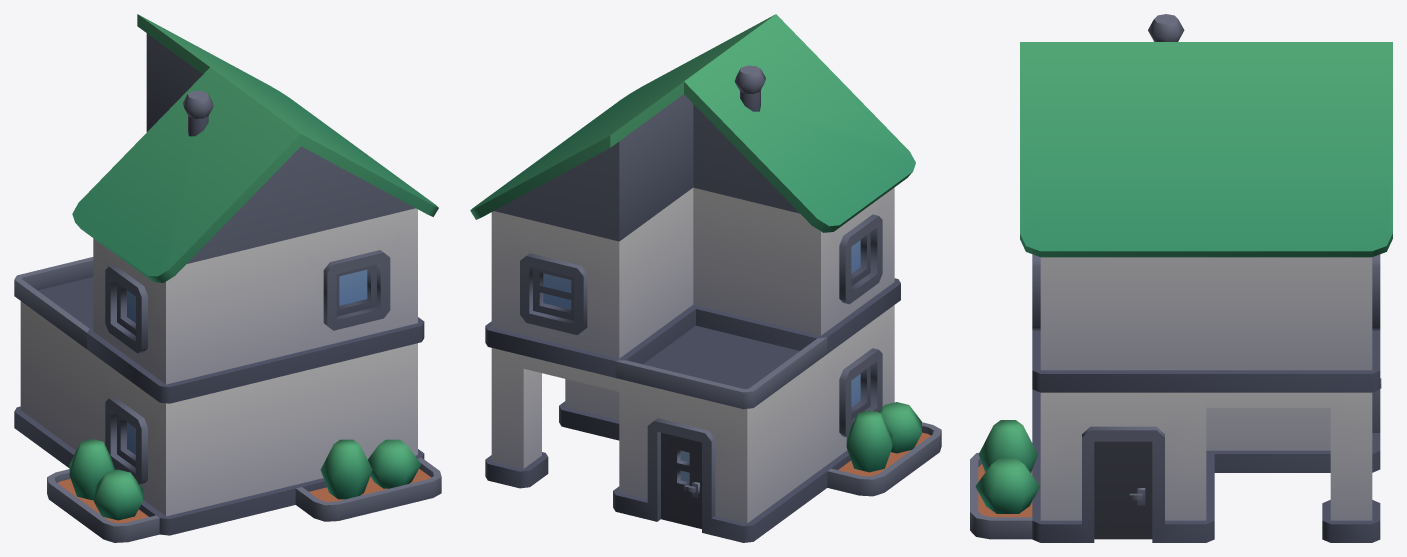
File: suburban-r.glb
3 renders of one model, left to right at view 1: azimuth 30°, elevation 25°; view 2: azimuth 150°, elevation 25°; view 3: azimuth 270°, elevation 25°, orthographic. The views are drawn at different scales.
Parts seen in each view (by area): view 1: suburban-r; view 2: suburban-r; view 3: suburban-r.
Boxes of the visible parts, bbox=[...] form: suburban-r: bbox=[14, 14, 441, 542]; suburban-r: bbox=[470, 14, 941, 542]; suburban-r: bbox=[970, 14, 1392, 542].
Size of the model in its own units: 1.03 by 1.14 by 1.02.
